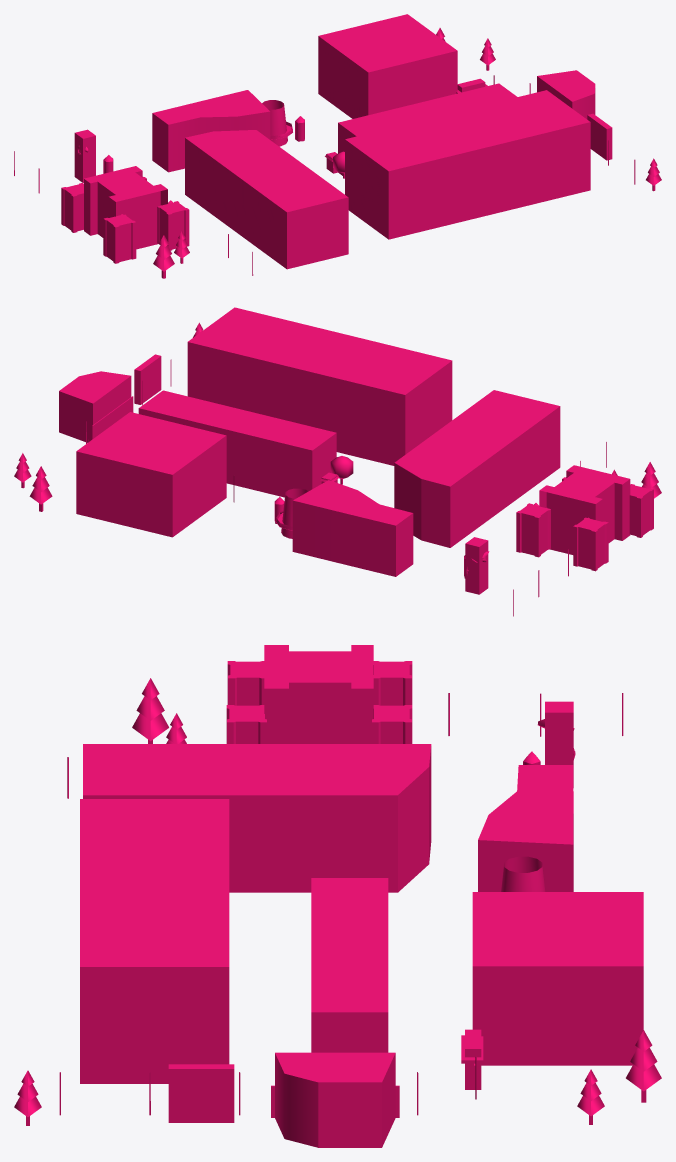
The model's file is solidcolliderNottinghm.FBX.
3 views of the same model, one above another, from view 1: azimuth 30°, elevation 25°; view 2: azimuth 150°, elevation 25°; view 3: azimuth 270°, elevation 25° (orthographic). The views are drawn at different scales.
Parts seen in each view (by area): view 1: walk_road004, walk_road006, petrolstation, wollatonhallsideclone, Box010, walk_road005, Box012, robinhoodclone, Box007, windmill_clone, coniferclone; view 2: walk_road004, walk_road006, petrolstation, walk_road005, wollatonhallsideclone, Box010, Box012, robinhoodclone, Box007, windmill_clone, Box011, conifer009 (+1 smaller); view 3: walk_road004, walk_road006, petrolstation, wollatonhallsideclone, walk_road005, Box012, Box010, Box007, robinhoodclone, windmill_clone, coniferclone, conifer009 (+3 smaller).
Part boxes in pixels (<box>): walk_road004: <box>345,90,590,239</box>; walk_road006: <box>185,130,348,269</box>; petrolstation: <box>318,14,457,118</box>; wollatonhallsideclone: <box>61,166,189,263</box>; Box010: <box>152,90,270,172</box>; walk_road005: <box>338,83,517,175</box>; Box012: <box>537,70,595,119</box>; robinhoodclone: <box>74,129,95,182</box>; Box007: <box>587,113,612,160</box>; windmill_clone: <box>262,100,292,146</box>; coniferclone: <box>153,235,174,278</box>; walk_road004: <box>187,307,452,465</box>; walk_road006: <box>394,390,560,547</box>; petrolstation: <box>76,412,226,537</box>; walk_road005: <box>138,390,336,497</box>; wollatonhallsideclone: <box>516,465,653,571</box>; Box010: <box>292,480,413,576</box>; Box012: <box>59,371,131,442</box>; robinhoodclone: <box>465,537,489,594</box>; Box007: <box>134,354,161,404</box>; windmill_clone: <box>275,488,308,538</box>; Box011: <box>92,396,133,439</box>; conifer009: <box>29,466,52,511</box>; walk_road004: <box>80,799,229,1083</box>; walk_road006: <box>83,744,431,892</box>; petrolstation: <box>472,892,643,1065</box>; wollatonhallsideclone: <box>226,645,412,743</box>; walk_road005: <box>311,878,388,1052</box>; Box012: <box>275,1052,395,1147</box>; Box010: <box>478,765,573,891</box>; Box007: <box>168,1064,234,1122</box>; robinhoodclone: <box>537,701,575,787</box>; windmill_clone: <box>501,856,545,891</box>; coniferclone: <box>132,678,168,743</box>; conifer009: <box>626,1030,661,1102</box>.
Size of the model in its own units: 427 by 61.93 by 277.
